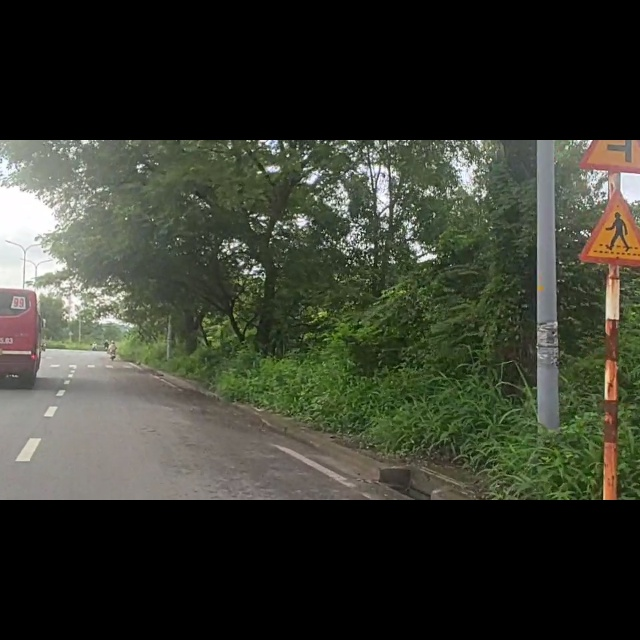bien_nguy_hiem: (579, 91, 640, 225), (576, 1, 640, 57)
